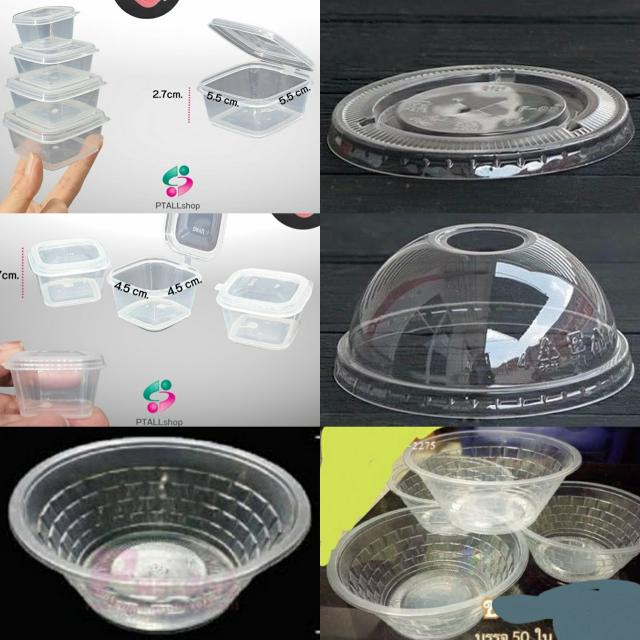plastik: (334, 224, 634, 418), (9, 438, 310, 631), (327, 65, 634, 180), (403, 429, 582, 535), (3, 6, 109, 169), (198, 19, 314, 138), (523, 481, 640, 582), (215, 269, 313, 350), (4, 350, 105, 419), (108, 258, 201, 331), (28, 238, 111, 307), (164, 214, 226, 259)
